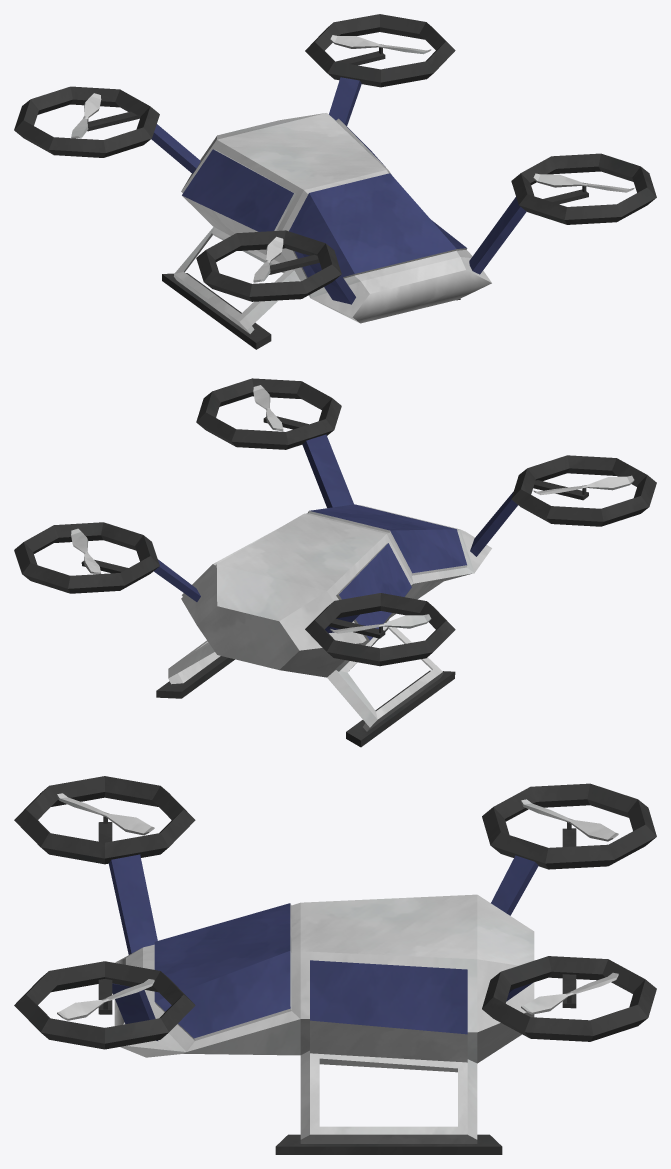
File: Drone.glb
The picture shows the model from 3 angles, top to bottom: view 1: azimuth 30°, elevation 25°; view 2: azimuth 150°, elevation 25°; view 3: azimuth 270°, elevation 25°; orthographic projection. The views are drawn at different scales.
Parts seen in each view (by area): view 1: DroneBody, FrontWing_L, RearWing_L, FrontWing_R, RearWing_R; view 2: DroneBody, FrontWing_R, RearWing_R, FrontWing_L, RearWing_L; view 3: DroneBody, FrontWing_R, RearWing_R, FrontWing_L, RearWing_L.
Boxes of the visible parts, x1,y1,x2,y2 form: DroneBody: (14,14,656,349); FrontWing_L: (533,173,634,192); RearWing_L: (330,35,431,54); FrontWing_R: (253,236,283,282); RearWing_R: (71,93,101,138); DroneBody: (14,378,656,747); FrontWing_R: (533,475,634,494); RearWing_R: (330,614,431,633); FrontWing_L: (253,385,283,431); RearWing_L: (71,528,100,574); DroneBody: (14,776,656,1154); FrontWing_R: (57,793,154,835); RearWing_R: (521,799,618,841); FrontWing_L: (57,979,154,1020); RearWing_L: (521,972,618,1014).
Size of the model in its own units: 117 by 39.97 by 122.
Materials: 1 (1 with a texture image).
